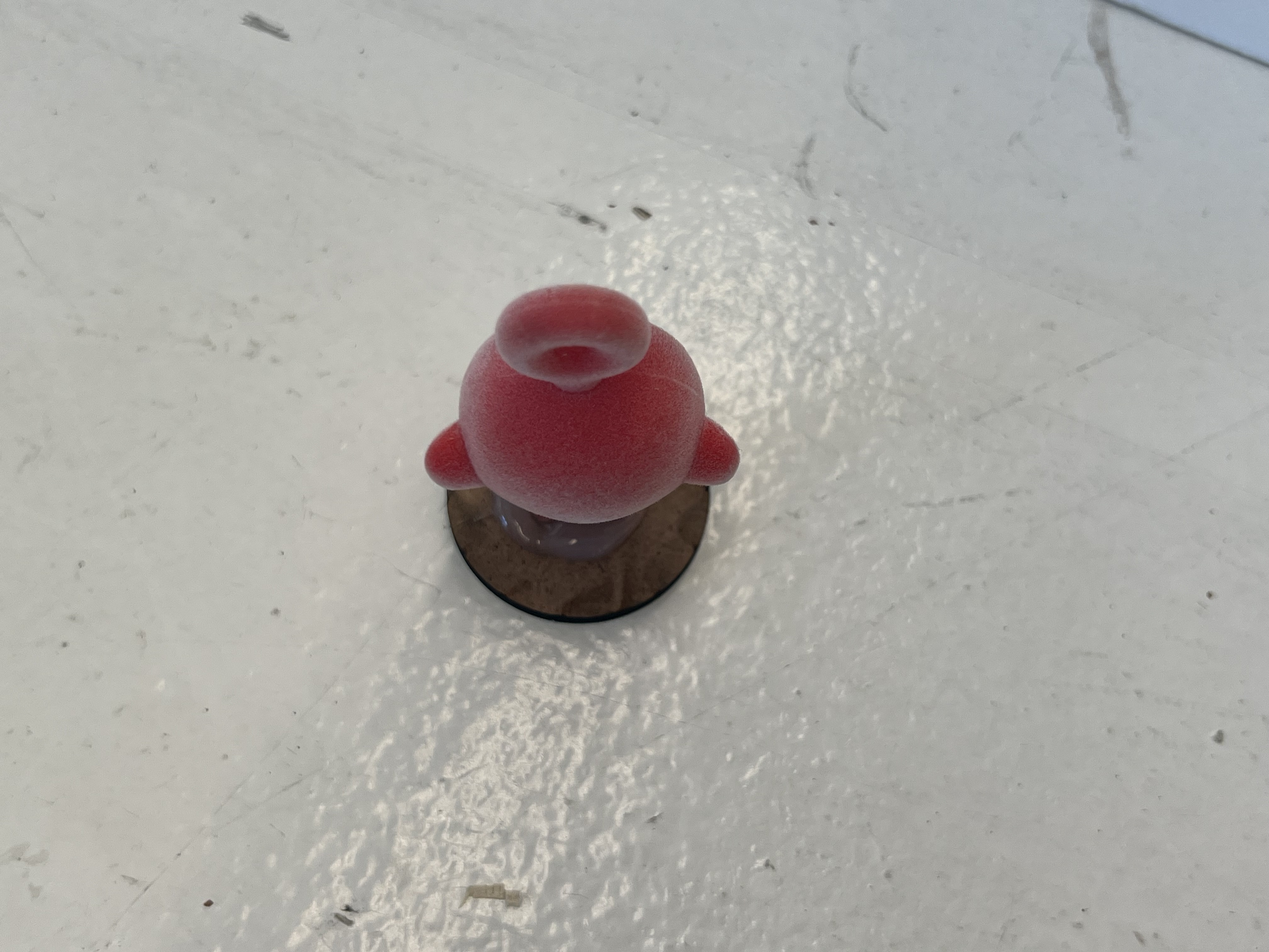teletubby: (425, 285, 739, 524)
